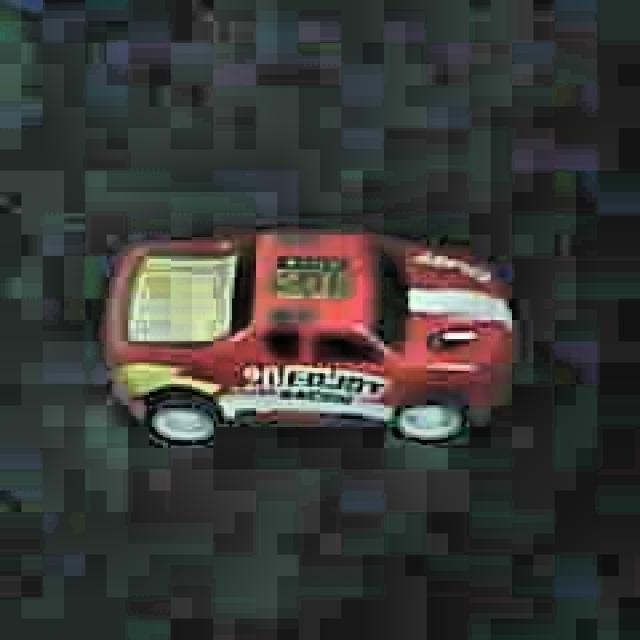car: (101, 226, 517, 456)
